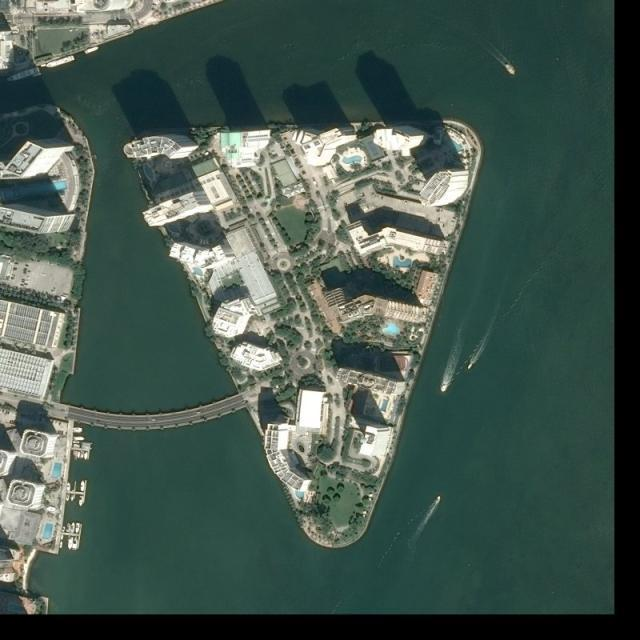ship: (6, 66, 40, 85), (46, 54, 76, 70), (84, 45, 101, 55), (506, 64, 515, 75), (441, 383, 448, 393), (32, 72, 42, 78), (435, 494, 441, 504), (73, 537, 77, 550), (74, 436, 83, 441), (70, 522, 74, 533), (68, 538, 72, 549), (39, 63, 46, 69), (468, 362, 473, 370), (79, 496, 83, 506), (66, 523, 70, 532), (75, 523, 79, 532), (70, 494, 74, 502), (81, 481, 84, 491), (59, 542, 63, 549), (77, 451, 80, 458), (81, 452, 84, 459), (84, 453, 87, 460), (67, 483, 70, 490), (66, 494, 69, 501), (62, 526, 65, 532), (60, 535, 63, 540)
